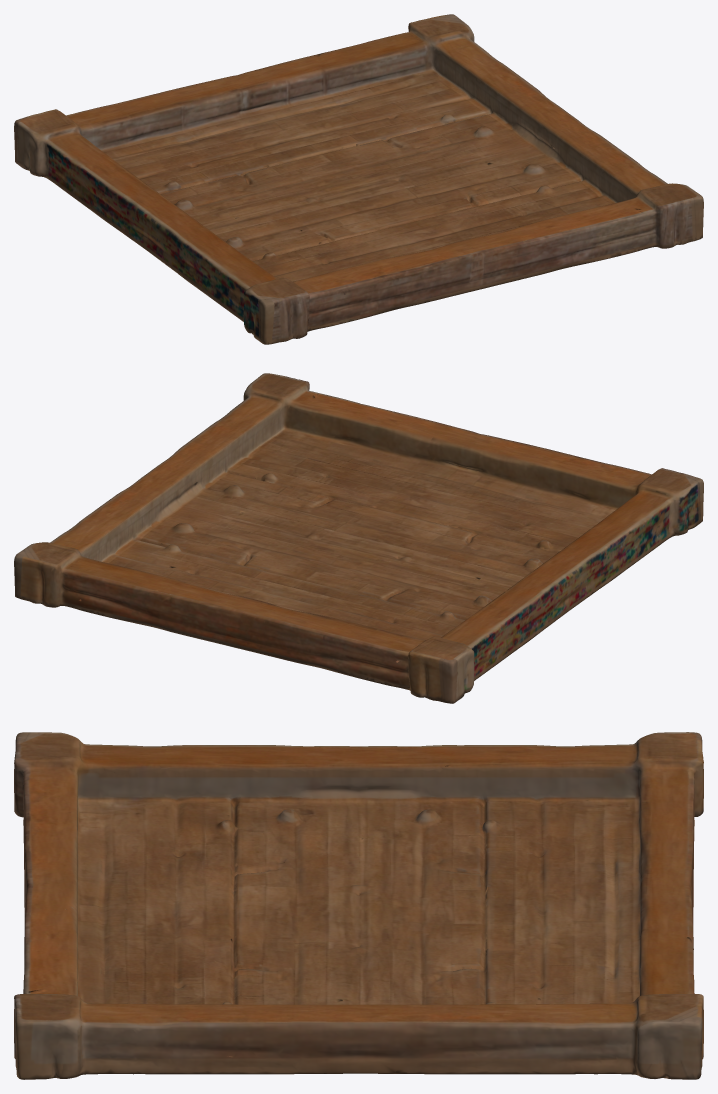
File: The_top_down_view_of__1211231730_stylize.fbx
3 renders of one model, top to bottom at view 1: azimuth 30°, elevation 25°; view 2: azimuth 150°, elevation 25°; view 3: azimuth 270°, elevation 25°, orthographic. The views are drawn at different scales.
Visible parts, largest first — view 1: Mesh_0.022; view 2: Mesh_0.022; view 3: Mesh_0.022.
Boxes of the visible parts, x1,y1,x2,y2 form: Mesh_0.022: (14, 14, 703, 344); Mesh_0.022: (14, 373, 703, 703); Mesh_0.022: (14, 732, 703, 1079).
Bounding box in the file's own units: 200 × 18.63 × 199.
Materials: 1 (1 with a texture image).
